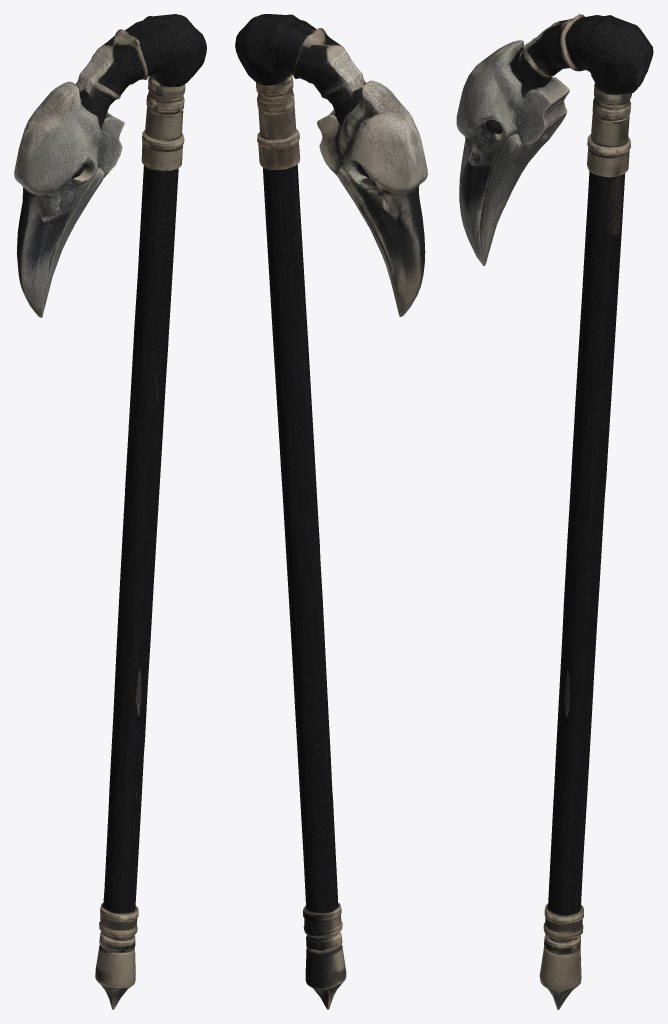
File: cane.glb
The picture shows the model from 3 angles, left to right: view 1: azimuth 30°, elevation 25°; view 2: azimuth 150°, elevation 25°; view 3: azimuth 330°, elevation 25°; orthographic projection. The views are drawn at different scales.
Parts seen in each view (by area): view 1: Mesh_0; view 2: Mesh_0; view 3: Mesh_0.
Part boxes in pixels (left/top/right/bottom): Mesh_0: left=14, top=14, right=206, bottom=1009; Mesh_0: left=235, top=14, right=427, bottom=1009; Mesh_0: left=456, top=14, right=653, bottom=1009.
Bounding box in the file's own units: 0.1954 × 0.9999 × 0.0785.
Materials: 1 (1 with a texture image).
